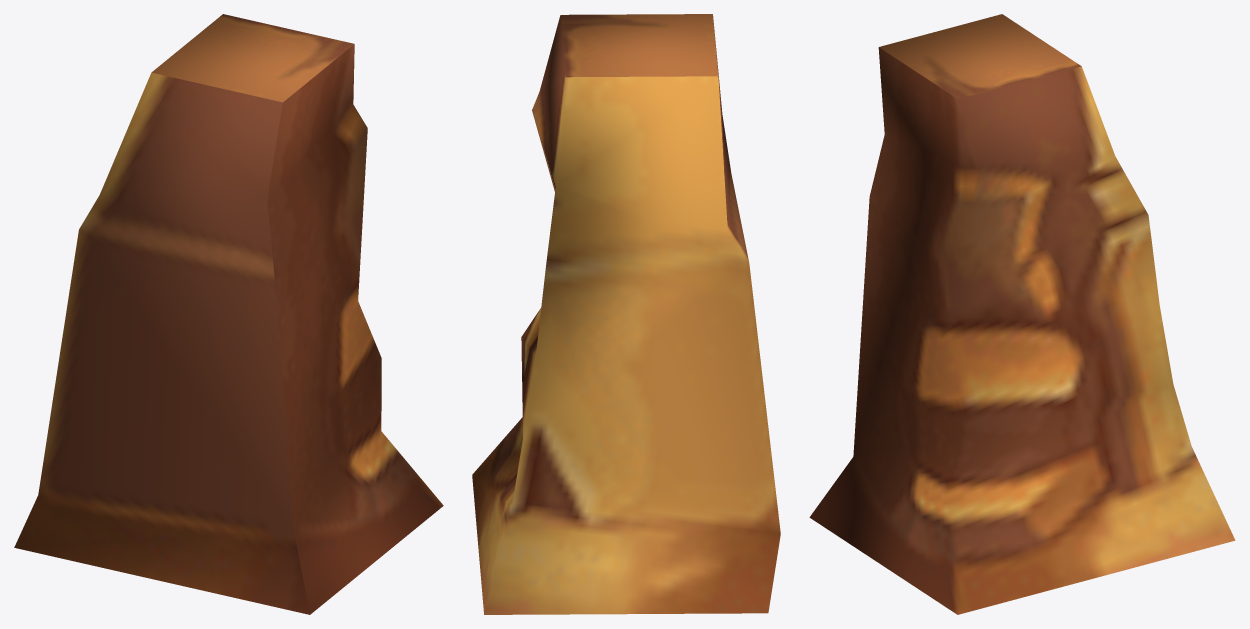
Rendered from sm_shitou1.fbx.
The picture shows the model from 3 angles, left to right: view 1: azimuth 30°, elevation 25°; view 2: azimuth 150°, elevation 25°; view 3: azimuth 270°, elevation 25°; orthographic projection. The views are drawn at different scales.
Parts seen in each view (by area): view 1: sm_shitou1; view 2: sm_shitou1; view 3: sm_shitou1.
Part boxes in pixels (box(x1,y1,x2,y2)): sm_shitou1: box(14, 14, 443, 614); sm_shitou1: box(472, 14, 780, 614); sm_shitou1: box(809, 14, 1235, 614).
Size of the model in its own units: 834 by 1067 by 865.
